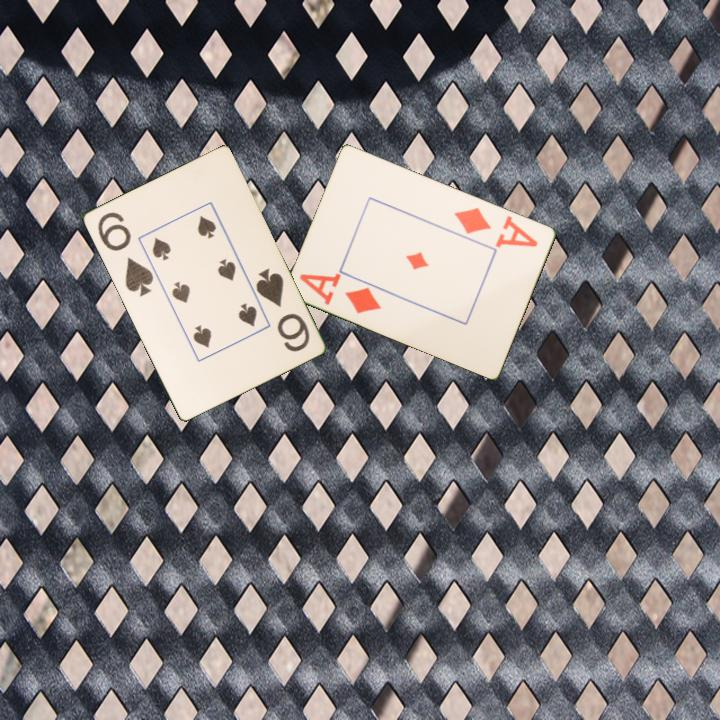6s: (94, 208, 156, 299), (252, 264, 312, 355)
Ad: (451, 203, 541, 250), (296, 270, 385, 317)
